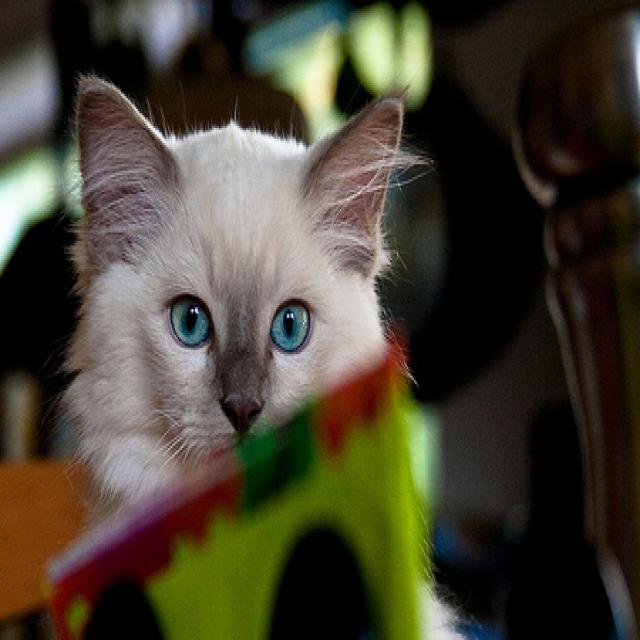Ragdoll: (59, 66, 403, 515)
